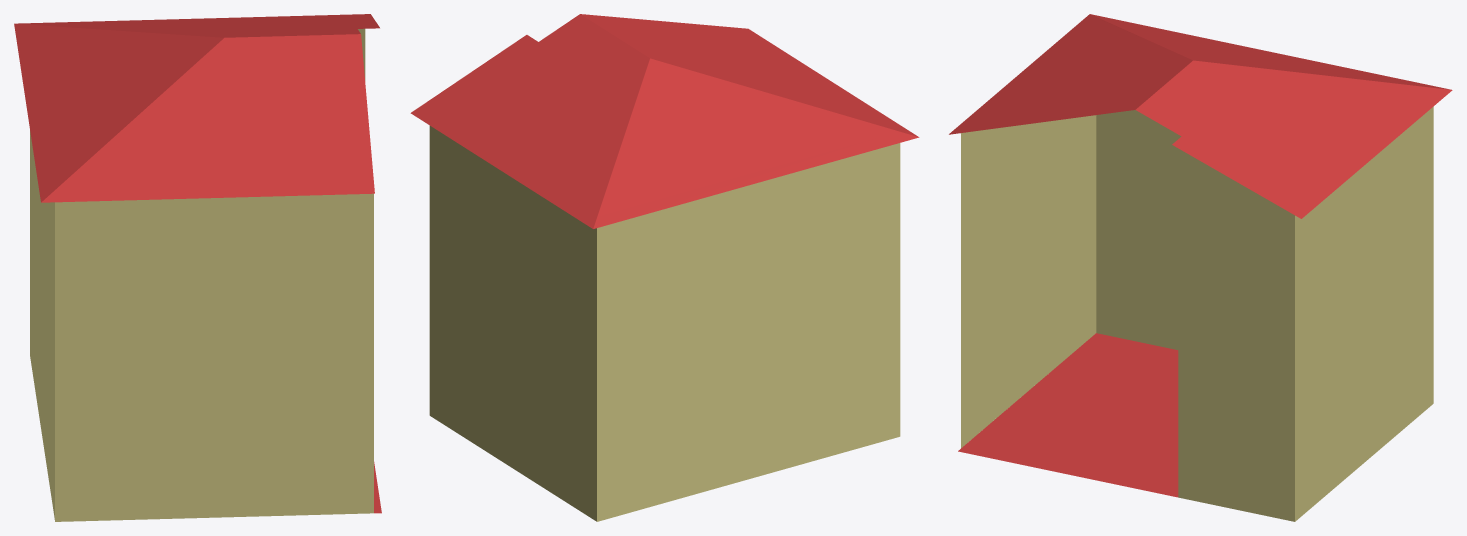
3 renders of one model, left to right at view 1: azimuth 30°, elevation 25°; view 2: azimuth 150°, elevation 25°; view 3: azimuth 270°, elevation 25°, orthographic. The views are drawn at different scales.
Parts seen in each view (by area): view 1: group_5, group_3, group_4; view 2: group_5, group_3, group_4; view 3: group_5, group_3, group_6, group_4.
Part boxes in pixels (x1,y1,x2,y2): group_5: (30, 28, 373, 521); group_3: (14, 14, 379, 202); group_4: (43, 15, 379, 202); group_5: (429, 125, 900, 521); group_3: (410, 14, 919, 228); group_4: (416, 29, 910, 132); group_5: (961, 107, 1433, 521); group_3: (949, 14, 1452, 218); group_6: (958, 333, 1178, 497); group_4: (951, 14, 1300, 217).
Size of the model in its own units: 8.45 by 8.78 by 7.2.
